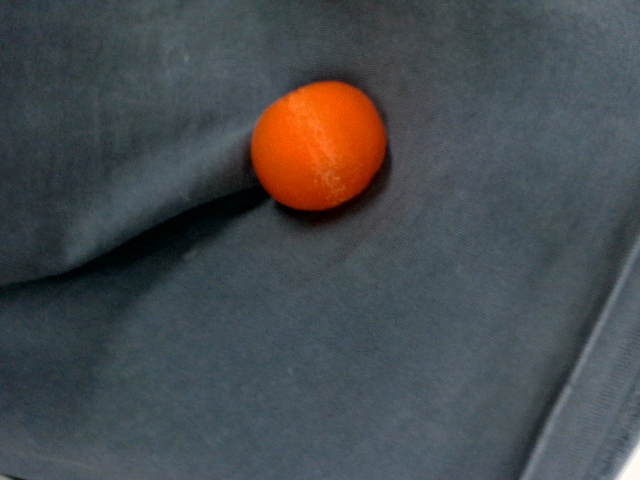orange: (230, 61, 407, 233)
